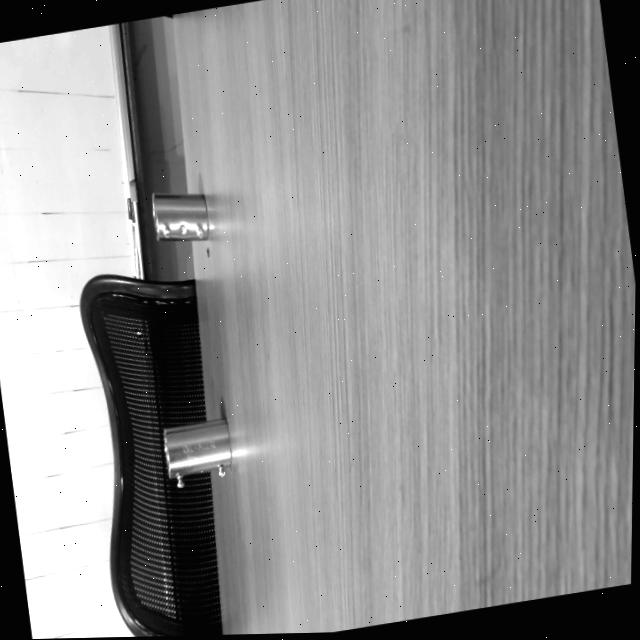Co_Lon: (162, 417, 234, 490)
Co_Nho: (153, 192, 209, 240)
